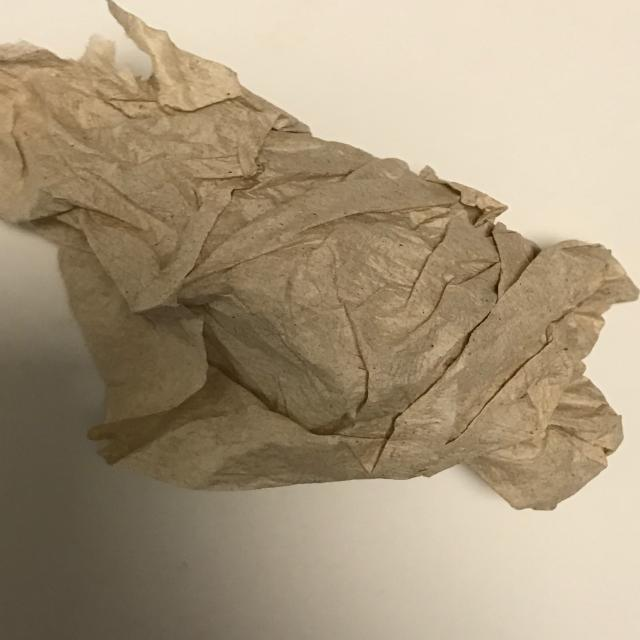trash: (1, 1, 638, 512)
